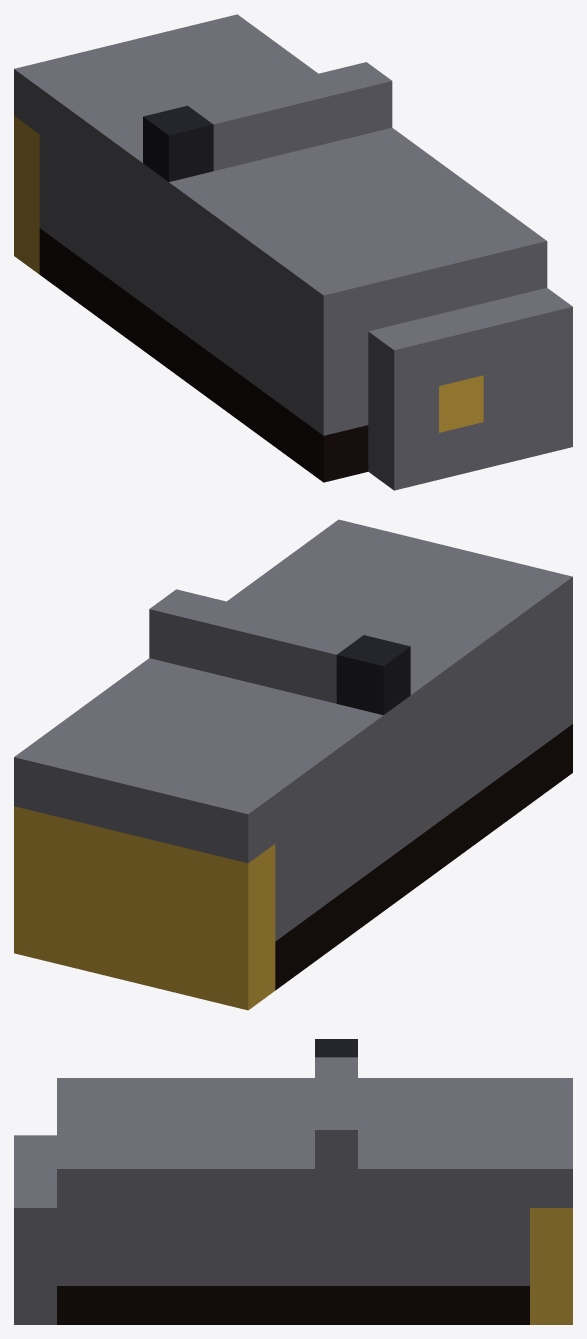
The model's file is chain_legendary_boot_foot_L_lod1.glb.
3 renders of one model, top to bottom at view 1: azimuth 30°, elevation 25°; view 2: azimuth 150°, elevation 25°; view 3: azimuth 270°, elevation 25°, orthographic. The views are drawn at different scales.
Visible parts, largest first — view 1: chain_legendary_boot_foot_L_lod1; view 2: chain_legendary_boot_foot_L_lod1; view 3: chain_legendary_boot_foot_L_lod1.
Part boxes in pixels (x1,y1,x2,y2): chain_legendary_boot_foot_L_lod1: [14, 14, 572, 490]; chain_legendary_boot_foot_L_lod1: [14, 519, 572, 1010]; chain_legendary_boot_foot_L_lod1: [14, 1039, 572, 1324].
Bounding box in the file's own units: 0.12 × 0.12 × 0.312.
